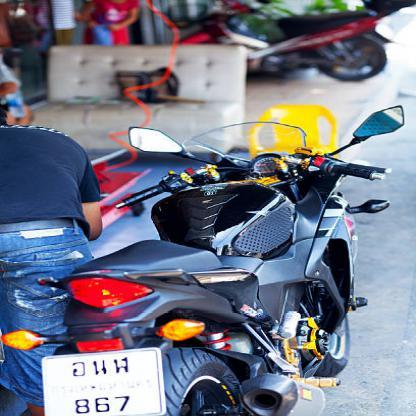Motorcycle: (62, 127, 415, 416)
